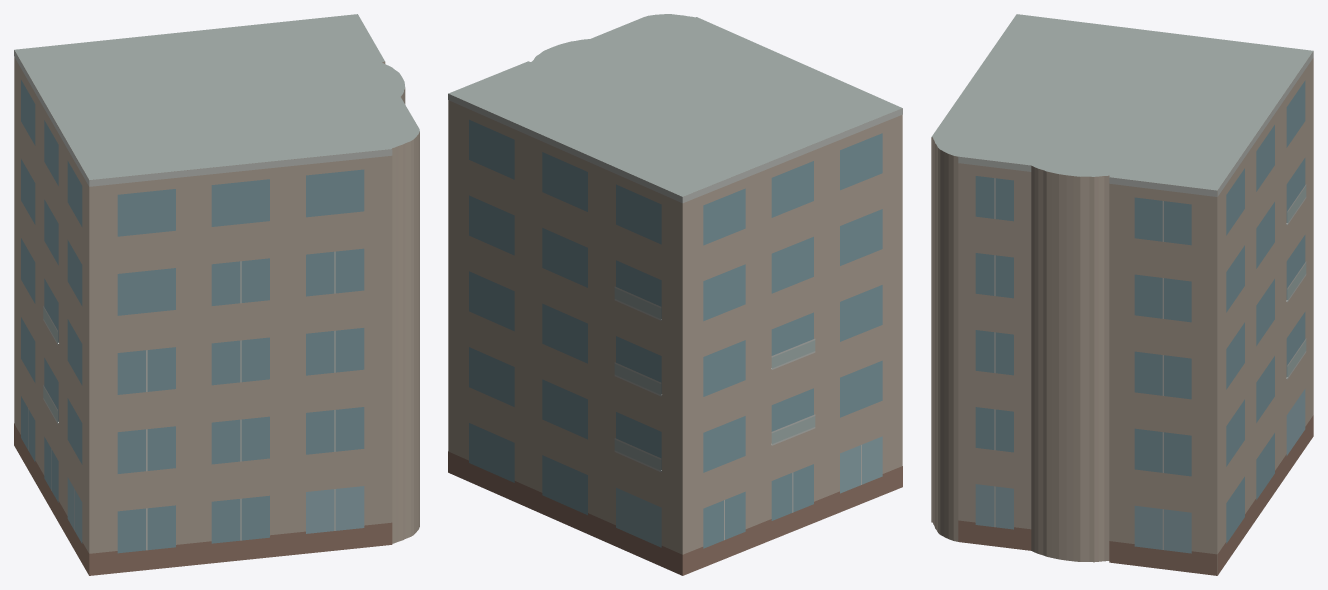
File: survey-upis-32873629.glb
The picture shows the model from 3 angles, left to right: view 1: azimuth 30°, elevation 25°; view 2: azimuth 150°, elevation 25°; view 3: azimuth 270°, elevation 25°; orthographic projection. The views are drawn at different scales.
Parts seen in each view (by area): view 1: survey-upis-32873629.tmp; view 2: survey-upis-32873629.tmp; view 3: survey-upis-32873629.tmp.
Boxes of the visible parts, x1,y1,x2,y2 form: survey-upis-32873629.tmp: (14, 14, 419, 575); survey-upis-32873629.tmp: (448, 14, 902, 575); survey-upis-32873629.tmp: (931, 14, 1313, 575).
Size of the model in its own units: 14.21 by 14.45 by 13.01.
